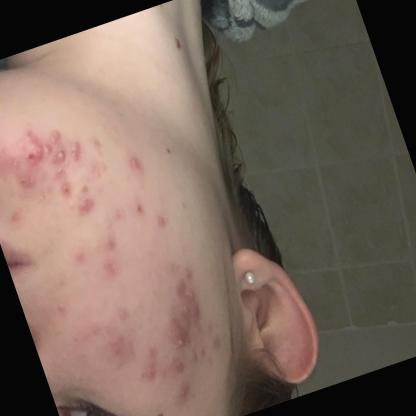Acne: (11, 124, 48, 176), (121, 192, 156, 236), (166, 320, 198, 362), (120, 148, 152, 188), (43, 138, 75, 172)
